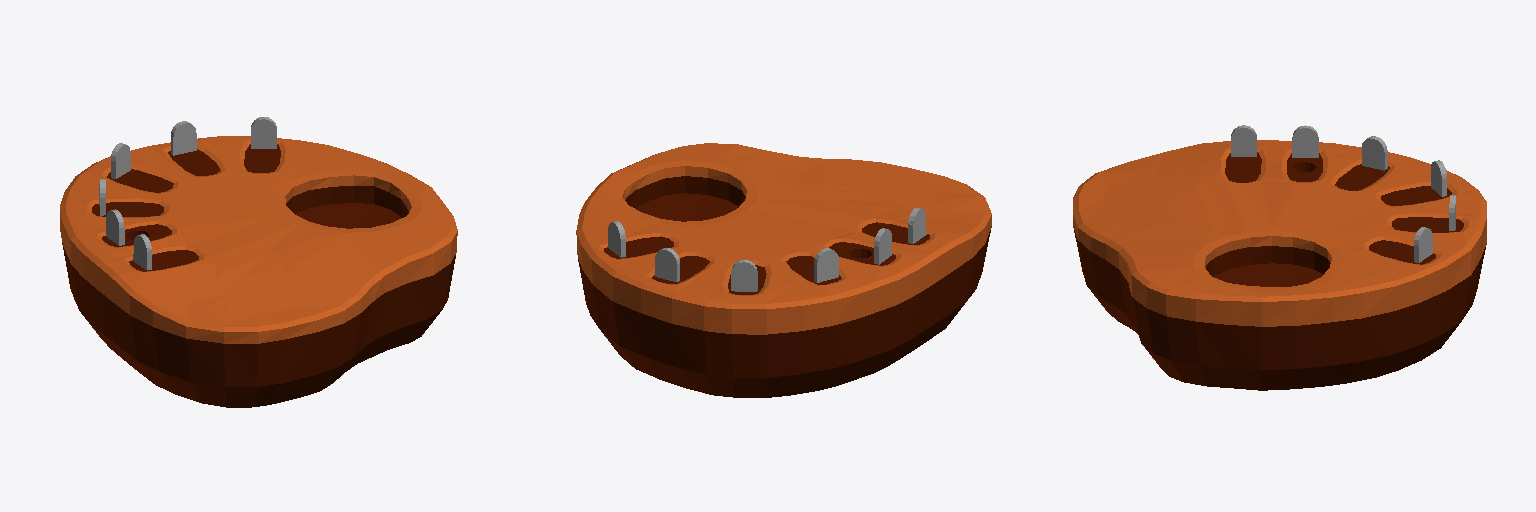
The model's file is DeathParadePlanet.obj.
3 views of the same model, side by side, from view 1: azimuth 30°, elevation 25°; view 2: azimuth 150°, elevation 25°; view 3: azimuth 270°, elevation 25° (orthographic).
Visible parts, largest first — view 1: DeathParadePlanet_Collision; view 2: DeathParadePlanet_Collision; view 3: DeathParadePlanet_Collision.
Boxes of the visible parts, x1=… form: DeathParadePlanet_Collision: x1=60, y1=117, x2=457, y2=407; DeathParadePlanet_Collision: x1=576, y1=143, x2=991, y2=397; DeathParadePlanet_Collision: x1=1073, y1=125, x2=1486, y2=390.
Bounding box in the file's own units: 2781 × 1069 × 2995.